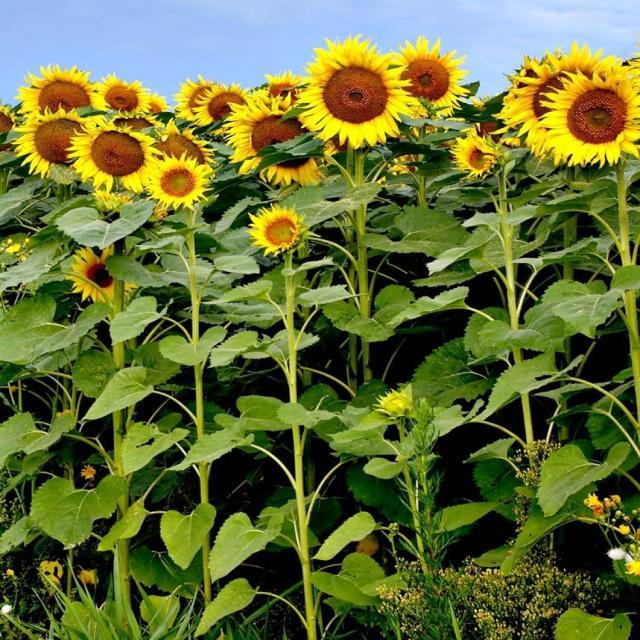sunflower: (488, 39, 640, 158), (295, 34, 417, 149), (534, 68, 639, 168), (222, 90, 321, 185), (64, 116, 160, 194), (492, 46, 577, 126), (388, 35, 468, 116), (10, 102, 86, 180), (14, 63, 111, 114), (64, 243, 137, 304), (388, 123, 460, 183), (143, 152, 214, 210), (447, 94, 522, 148), (148, 118, 218, 166), (192, 81, 252, 136), (247, 203, 300, 256), (90, 74, 151, 118), (449, 128, 499, 178), (173, 73, 220, 121), (252, 70, 306, 102), (104, 108, 164, 132), (318, 132, 350, 154), (626, 42, 640, 91), (147, 90, 167, 113), (0, 103, 13, 133), (80, 464, 96, 480)
